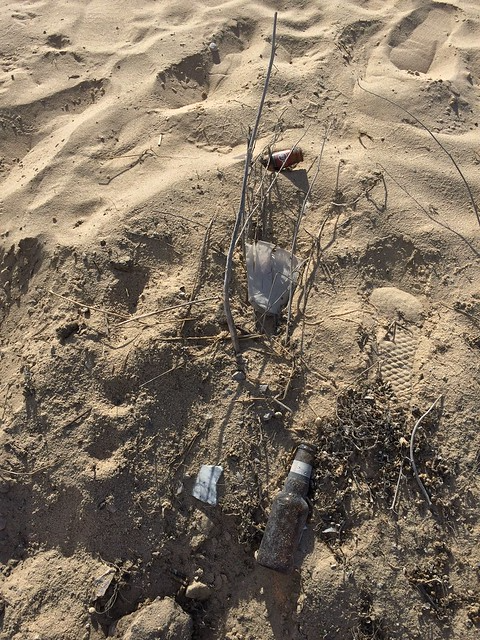bottle: (252, 430, 321, 585)
